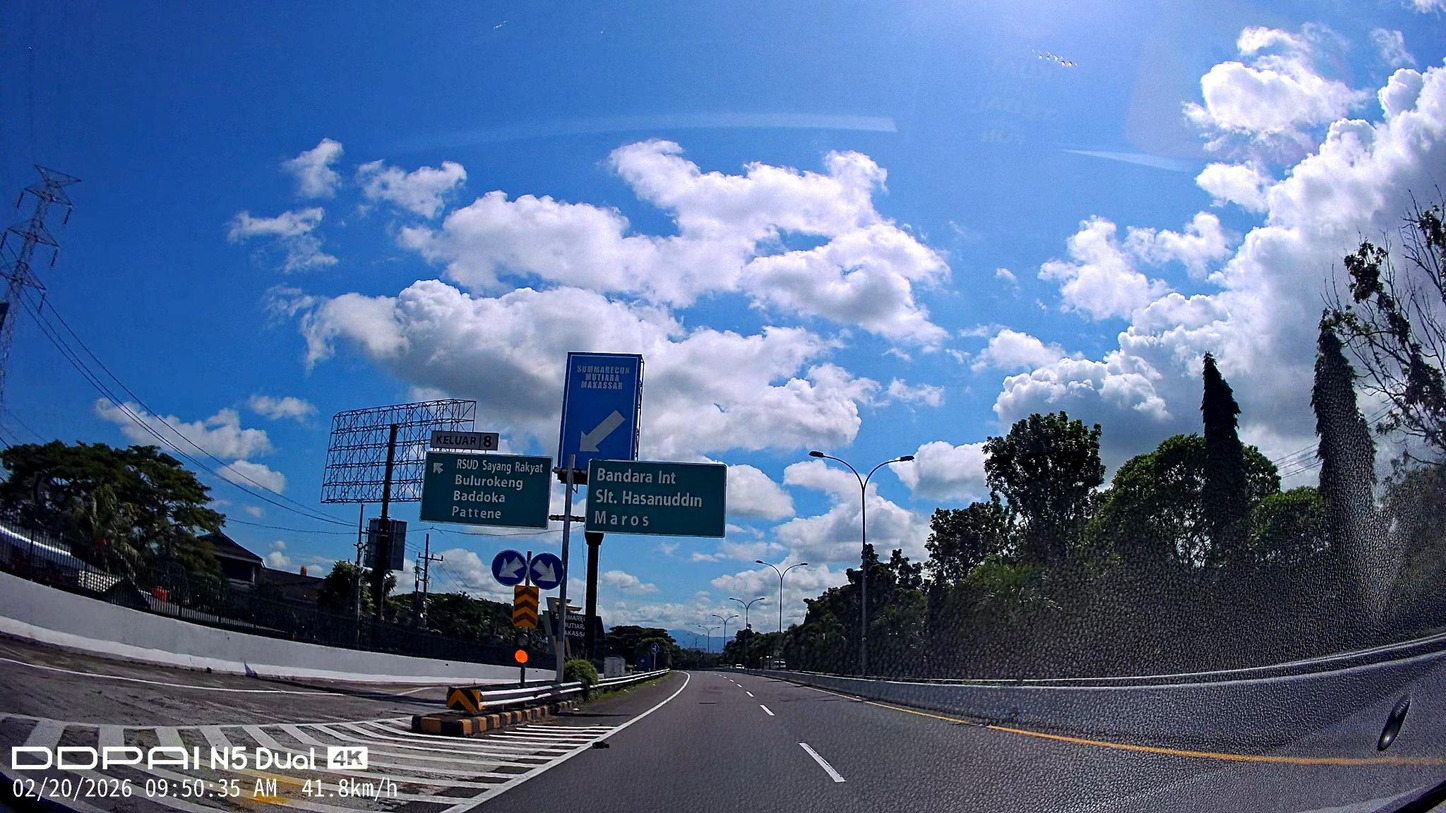rambu_teks: (583, 457, 728, 539), (419, 450, 554, 530)
